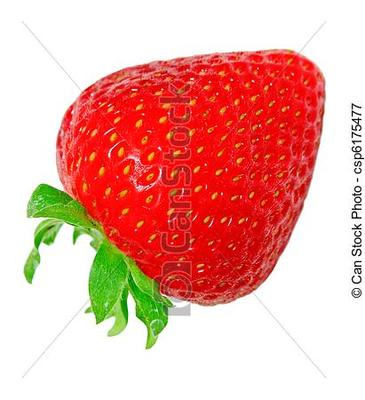strawberry: (0, 0, 365, 400)
